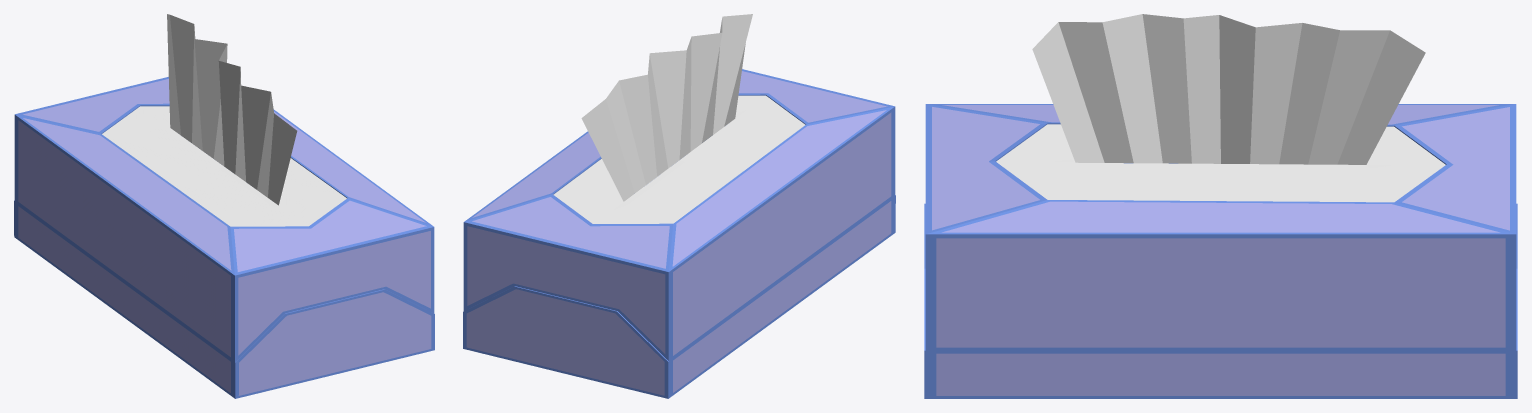
Rendered from TissueBox.fbx.
3 views of the same model, side by side, from view 1: azimuth 30°, elevation 25°; view 2: azimuth 150°, elevation 25°; view 3: azimuth 270°, elevation 25° (orthographic). The views are drawn at different scales.
Parts seen in each view (by area): view 1: TissueBox, Tissue; view 2: TissueBox, Tissue; view 3: TissueBox, Tissue.
Part boxes in pixels (left/top/right/bottom): TissueBox: left=14, top=77, right=434, bottom=398; Tissue: left=167, top=14, right=297, bottom=205; TissueBox: left=463, top=69, right=895, bottom=398; Tissue: left=581, top=14, right=752, bottom=201; TissueBox: left=924, top=104, right=1517, bottom=398; Tissue: left=1032, top=14, right=1425, bottom=164.
Bounding box in the file's own units: 11.56 × 13.1 × 22.21.
